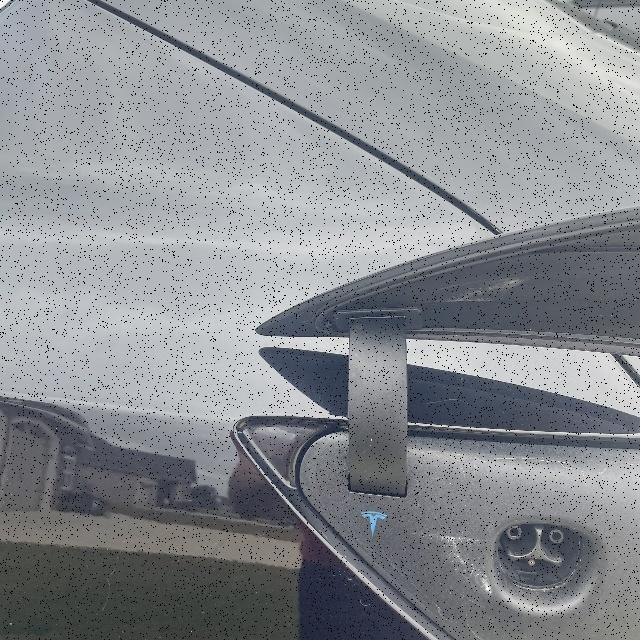Tesla Model-S-: (474, 506, 614, 630)
